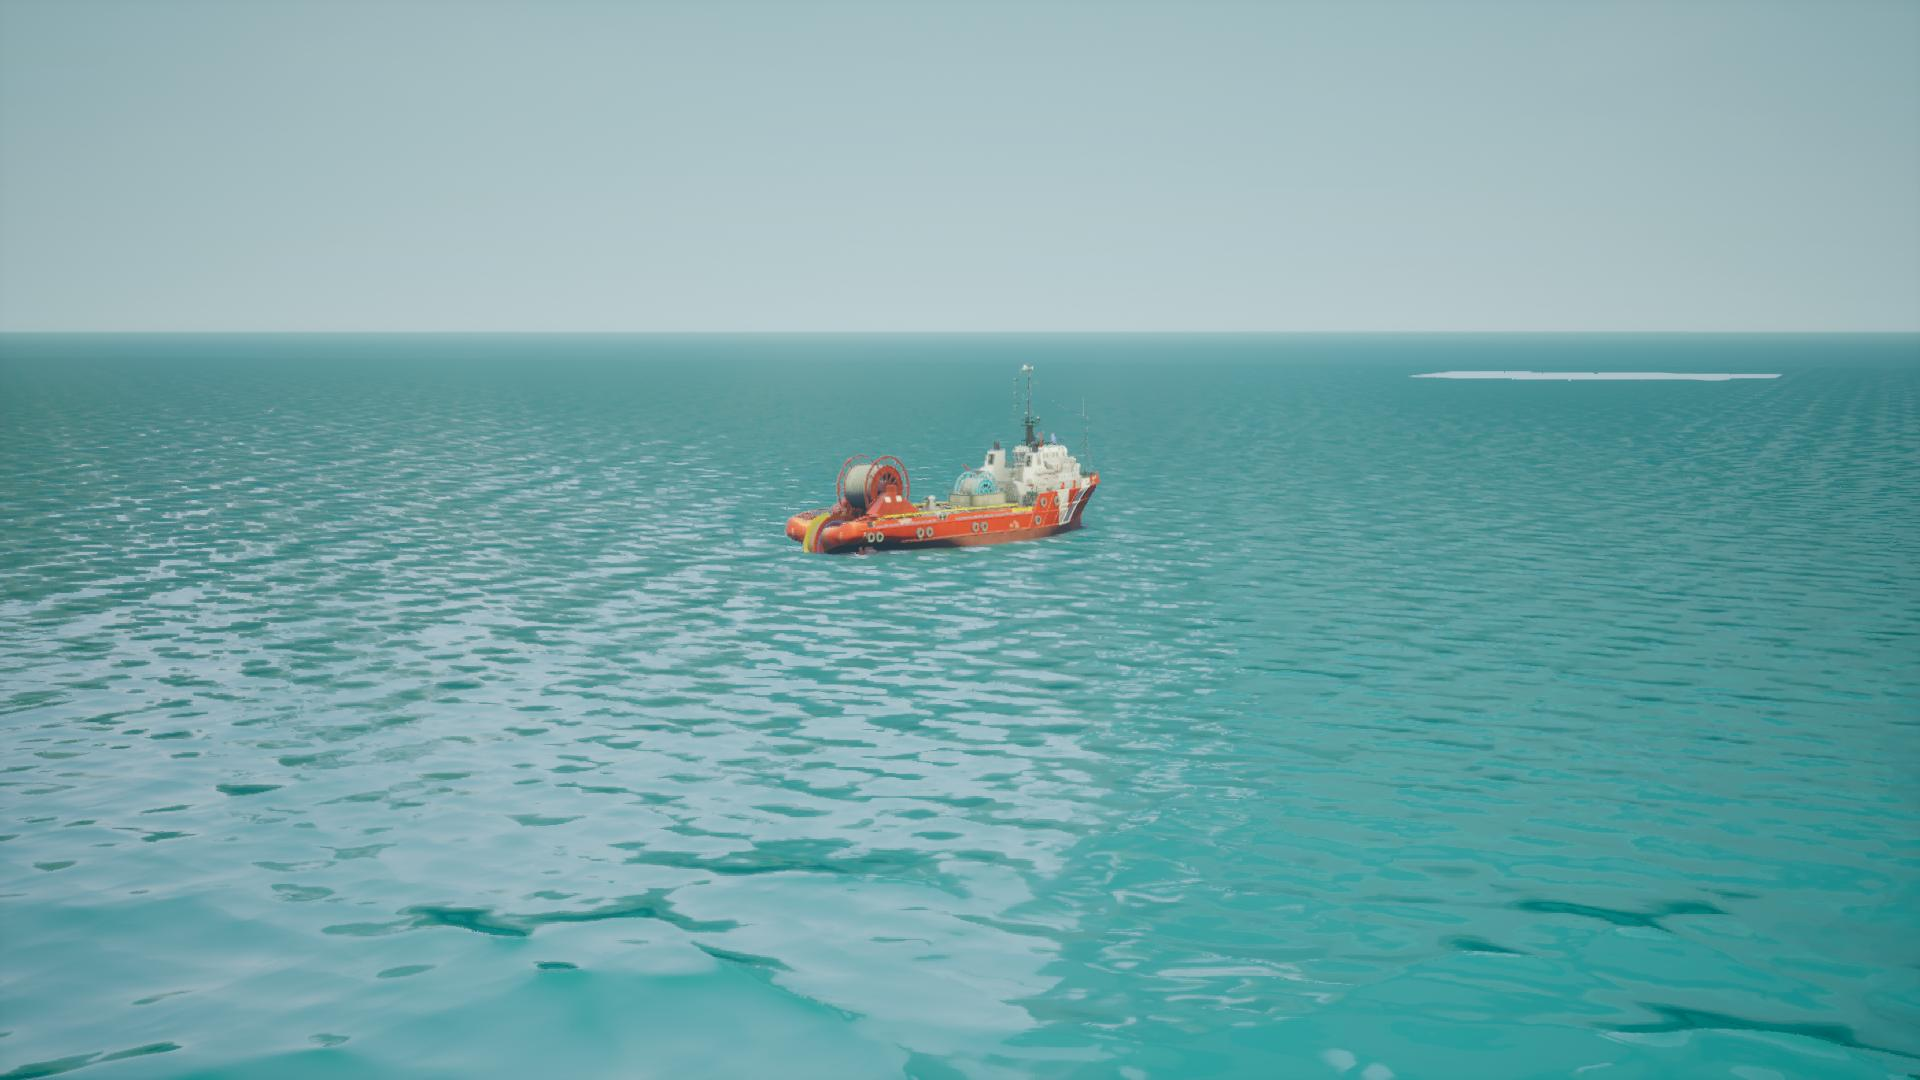Tug Boat: (794, 367, 1102, 556)
